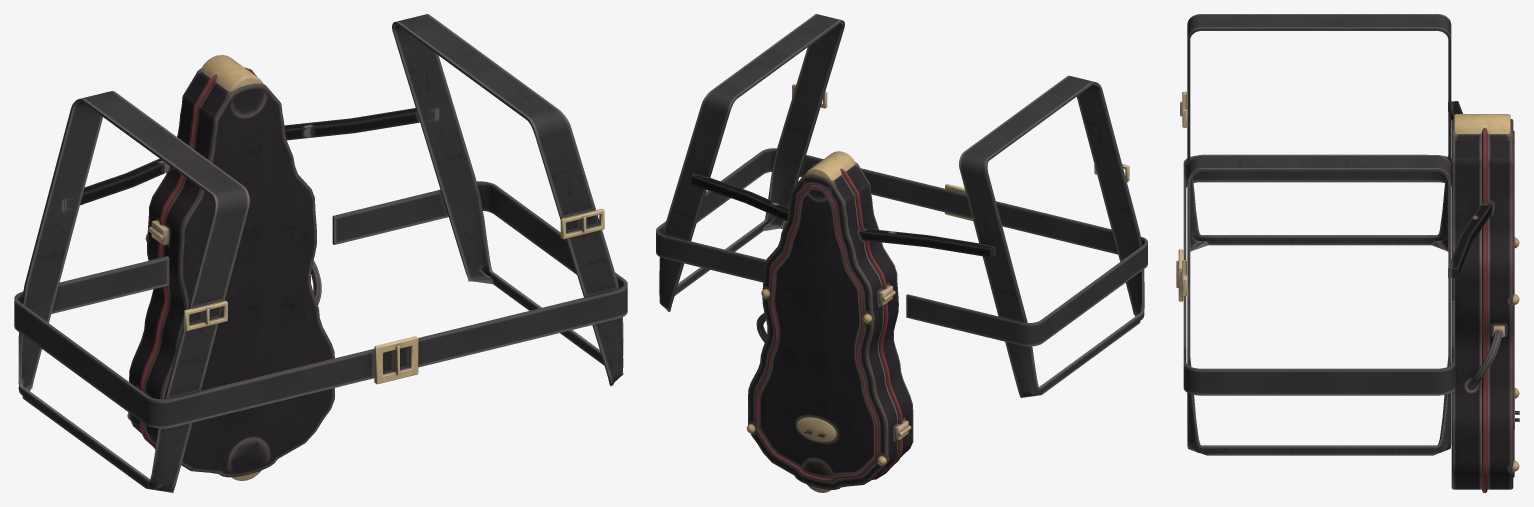
The model's file is NHAcc_ViolinCase.fbx.
The picture shows the model from 3 angles, left to right: view 1: azimuth 30°, elevation 25°; view 2: azimuth 150°, elevation 25°; view 3: azimuth 270°, elevation 25°; orthographic projection. The views are drawn at different scales.
Visible parts, largest first — view 1: ViolinCase; view 2: ViolinCase; view 3: ViolinCase.
Boxes of the visible parts, x1,y1,x2,y2 form: ViolinCase: (14, 14, 627, 492); ViolinCase: (656, 14, 1147, 492); ViolinCase: (1176, 14, 1519, 492).
Size of the model in its own units: 2.15 by 1.84 by 1.45.
Materials: 1 (1 with a texture image).
